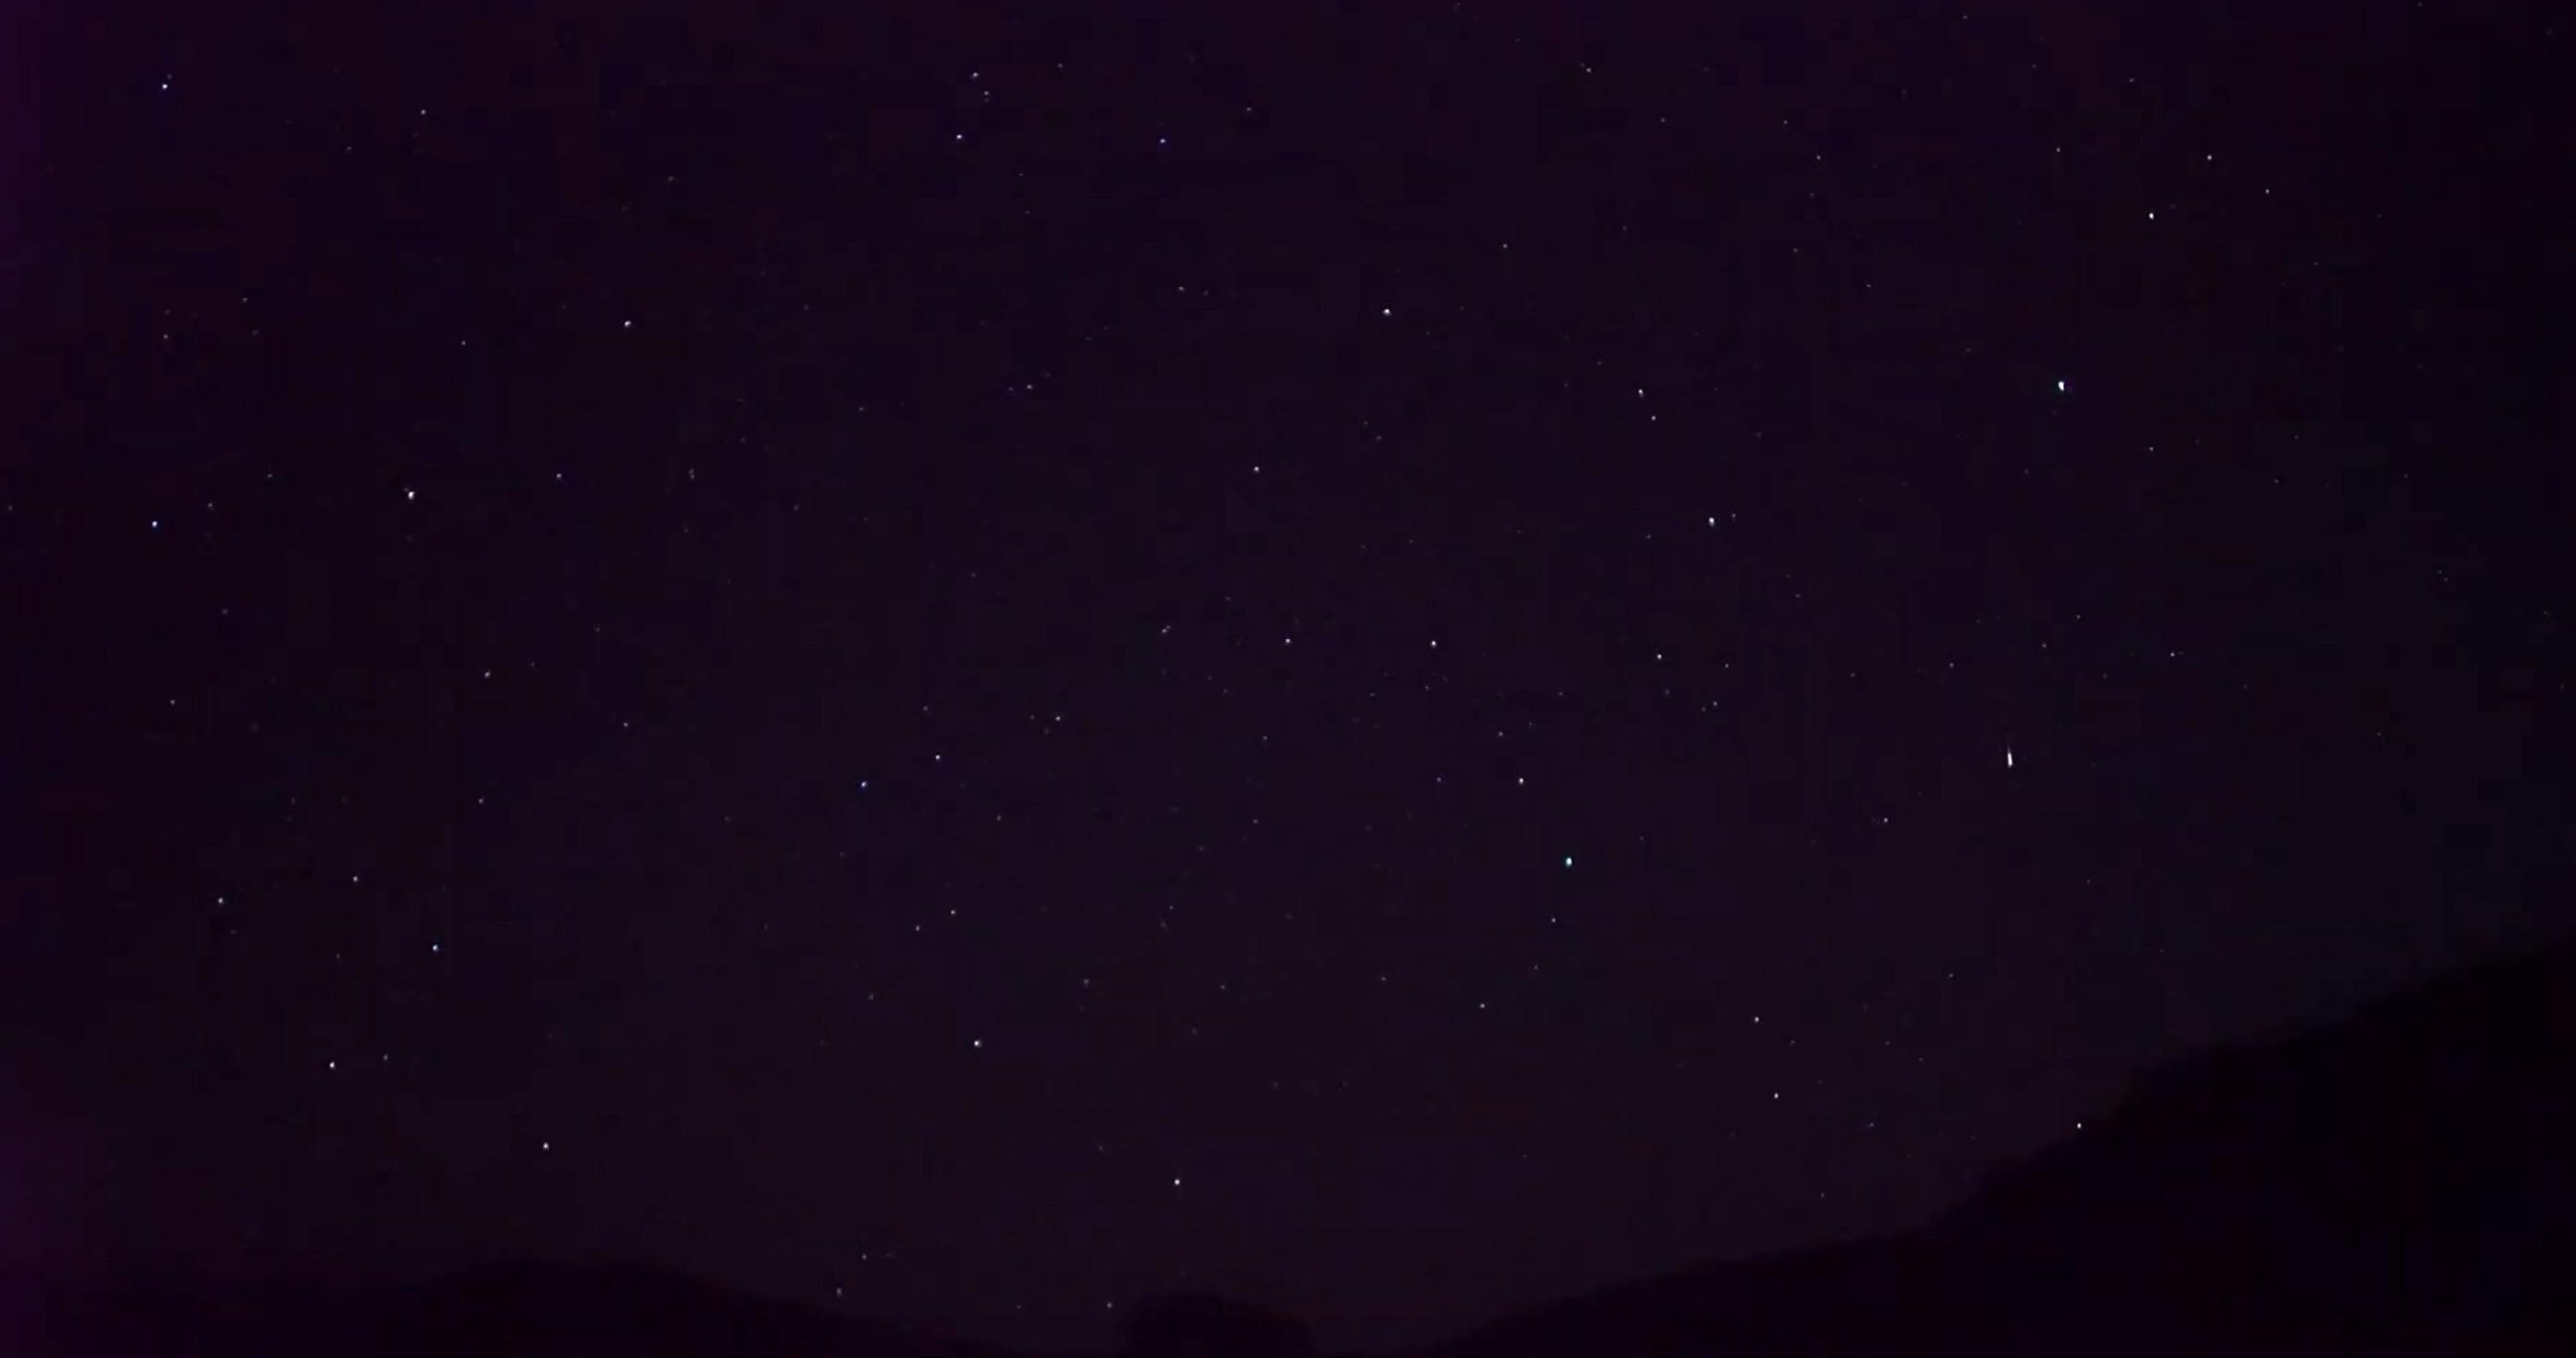meteorite: (1964, 731, 2055, 782)
